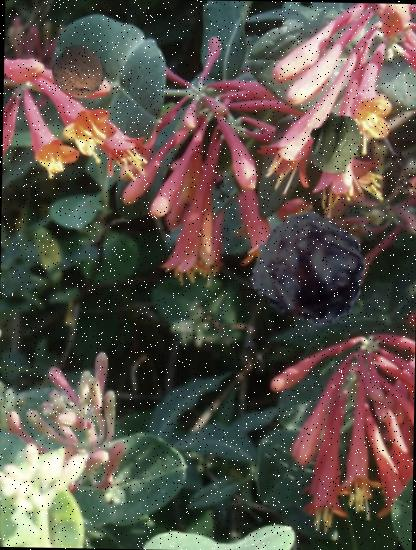Dates: (254, 211, 368, 325)
Kohlrabi: (305, 112, 369, 176)
Walnut: (52, 45, 106, 99)
